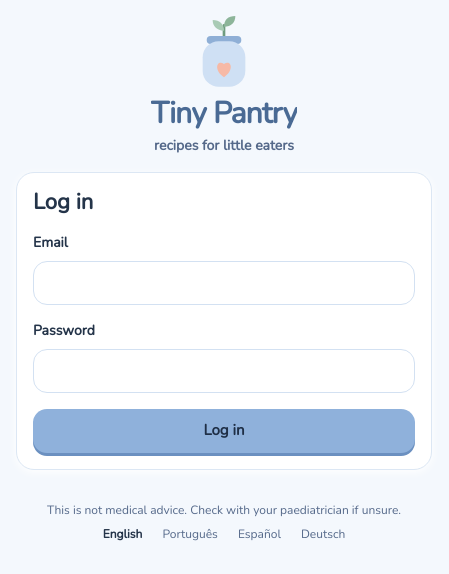
Test: logged out, picking a language switches the page and is remembered in the browser only
The image size is (449, 574).
Expected: the navigation bar is shown, [99, 526, 349, 542]
Click the button "Deutsch": (323, 534) [297, 526, 349, 542]
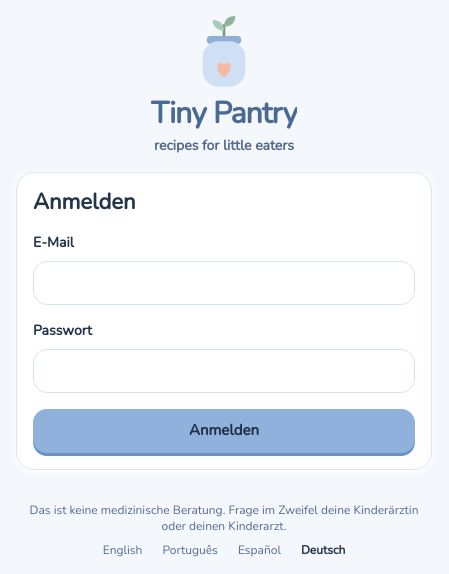
Result: the navigation bar named "Sprache" is shown at [99, 542, 349, 558]
